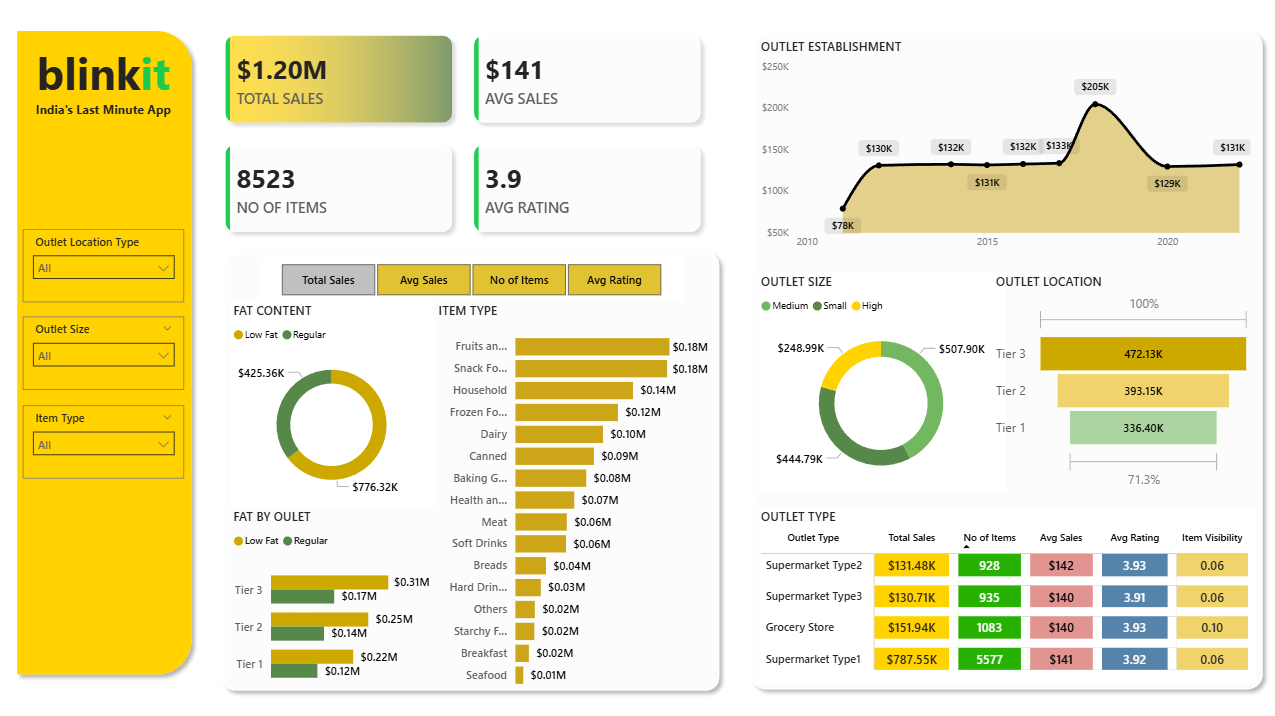

What the dashboard file says about the page in this screenshot:
{"tool":"powerbi","page":{"name":"Page 1","canvas":[1400,800],"ordinal":0},"visuals":[{"type":"shape","box":[16,32,208,720],"z":0},{"type":"textbox","box":[32,48,176,80],"z":1000},{"type":"textbox","box":[32,112,176,32],"z":2000},{"type":"cardVisual","fields":{"Data":["BlinkIT Grocery Data.Total Sales","BlinkIT Grocery Data.Avg Sales","BlinkIT Grocery Data.No of Items","BlinkIT Grocery Data.Avg Rating"]},"box":[224,16,576,272],"z":3000},{"type":"shape","box":[240,272,560,496],"z":4000},{"type":"donutChart","title":"FAT CONTENT","fields":{"Y":["BlinkIT Grocery Data.Total Sales"],"Category":["BlinkIT Grocery Data.Item Fat Content"]},"box":[256,336,224,224],"z":5000},{"type":"slicer","fields":{"Values":["Metrics.Metrics"]},"box":[288,288,464,48],"z":6000},{"type":"clusteredBarChart","title":"FAT BY OULET","fields":{"Y":["BlinkIT Grocery Data.Total Sales"],"Category":["BlinkIT Grocery Data.Outlet Location Type"],"Series":["BlinkIT Grocery Data.Item Fat Content"]},"box":[256,560,224,208],"z":7000},{"type":"barChart","title":"ITEM TYPE","fields":{"Y":["BlinkIT Grocery Data.Total Sales"],"Category":["BlinkIT Grocery Data.Item Type"]},"box":[480,336,304,432],"z":8000},{"type":"shape","box":[816,32,576,736],"z":9000},{"type":"lineChart","title":"OUTLET ESTABLISHMENT","fields":{"Category":["BlinkIT Grocery Data.Outlet Establishment Year"],"Y":["BlinkIT Grocery Data.Total Sales"]},"box":[832,48,544,240],"z":10000},{"type":"donutChart","title":"OUTLET SIZE","fields":{"Y":["BlinkIT Grocery Data.Total Sales"],"Category":["BlinkIT Grocery Data.Outlet Size"]},"box":[832,304,272,240],"z":11000},{"type":"funnel","title":"OUTLET LOCATION","fields":{"Y":["Sum(BlinkIT Grocery Data.Sales)"],"Category":["BlinkIT Grocery Data.Outlet Location Type"]},"box":[1088,304,288,240],"z":12000},{"type":"pivotTable","title":"OUTLET TYPE","fields":{"Rows":["BlinkIT Grocery Data.Outlet Type"],"Values":["BlinkIT Grocery Data.Total Sales","BlinkIT Grocery Data.No of Items","BlinkIT Grocery Data.Avg Sales","BlinkIT Grocery Data.Avg Rating","Avg(BlinkIT Grocery Data.Item Visibility)"]},"box":[832,560,544,192],"z":13000},{"type":"slicer","fields":{"Values":["BlinkIT Grocery Data.Outlet Location Type"]},"box":[32,256,176,80],"z":13001},{"type":"slicer","fields":{"Values":["BlinkIT Grocery Data.Outlet Size"]},"box":[32,352,176,80],"z":13002},{"type":"slicer","fields":{"Values":["BlinkIT Grocery Data.Item Type"]},"box":[32,448,176,80],"z":13003}]}

Visuals, with their boxes in screenshot pixels (x1, y1, x2, y2), scaled from the page's 1400x800 canvas onto the 1275x716 screenshot:
shape: {"x1": 15, "y1": 29, "x2": 204, "y2": 673}
textbox: {"x1": 29, "y1": 43, "x2": 189, "y2": 115}
textbox: {"x1": 29, "y1": 100, "x2": 189, "y2": 129}
cardVisual - BlinkIT Grocery Data.Total Sales x BlinkIT Grocery Data.Avg Sales: {"x1": 204, "y1": 14, "x2": 729, "y2": 258}
shape: {"x1": 219, "y1": 243, "x2": 729, "y2": 687}
"FAT CONTENT" donutChart: {"x1": 233, "y1": 301, "x2": 437, "y2": 501}
slicer - Metrics.Metrics: {"x1": 262, "y1": 258, "x2": 685, "y2": 301}
"FAT BY OULET" clusteredBarChart: {"x1": 233, "y1": 501, "x2": 437, "y2": 687}
"ITEM TYPE" barChart: {"x1": 437, "y1": 301, "x2": 714, "y2": 687}
shape: {"x1": 743, "y1": 29, "x2": 1268, "y2": 687}
"OUTLET ESTABLISHMENT" lineChart: {"x1": 758, "y1": 43, "x2": 1253, "y2": 258}
"OUTLET SIZE" donutChart: {"x1": 758, "y1": 272, "x2": 1005, "y2": 487}
"OUTLET LOCATION" funnel: {"x1": 991, "y1": 272, "x2": 1253, "y2": 487}
"OUTLET TYPE" pivotTable: {"x1": 758, "y1": 501, "x2": 1253, "y2": 673}
slicer - BlinkIT Grocery Data.Outlet Location Type: {"x1": 29, "y1": 229, "x2": 189, "y2": 301}
slicer - BlinkIT Grocery Data.Outlet Size: {"x1": 29, "y1": 315, "x2": 189, "y2": 387}
slicer - BlinkIT Grocery Data.Item Type: {"x1": 29, "y1": 401, "x2": 189, "y2": 473}
